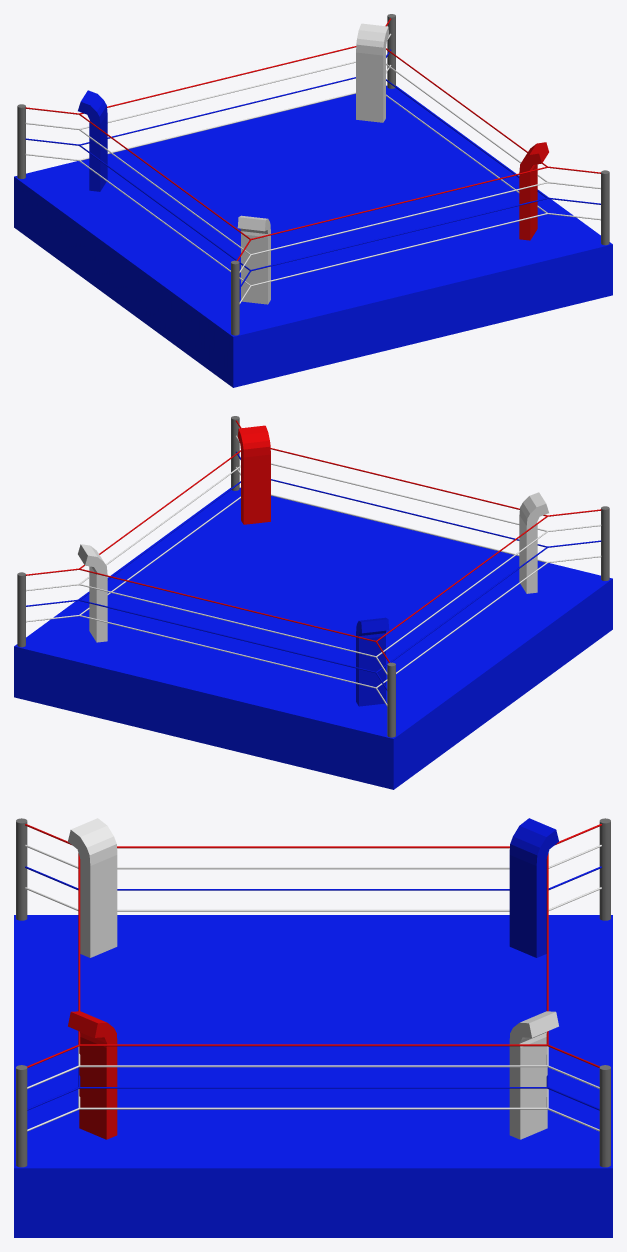
File: boxing ring.fbx
3 renders of one model, top to bottom at view 1: azimuth 30°, elevation 25°; view 2: azimuth 150°, elevation 25°; view 3: azimuth 270°, elevation 25°, orthographic. The views are drawn at different scales.
Visible parts, largest first — view 1: Ring, Turnbuckle Pad, Rope Restraint, Rope.002, Rope.003, Rope.001, Rope; view 2: Ring, Turnbuckle Pad, Rope Restraint, Rope.002, Rope.003, Rope.001, Rope; view 3: Ring, Turnbuckle Pad, Rope Restraint, Rope.003, Rope.002, Rope, Rope.001, TurnbuckleRope, TurnbuckleRope.001, TurnbuckleRope.002.
Part boxes in pixels (x1,y1,x2,y2): Ring: (14, 85, 612, 387); Turnbuckle Pad: (78, 23, 548, 304); Rope Restraint: (17, 14, 609, 335); Rope.002: (78, 61, 547, 255); Rope.003: (79, 46, 547, 239); Rope.001: (79, 77, 547, 271); Rope: (79, 92, 547, 286); Ring: (14, 487, 612, 789); Turnbuckle Pad: (78, 425, 548, 706); Rope Restraint: (17, 416, 609, 737); Rope.002: (79, 463, 548, 657); Rope.003: (79, 448, 547, 641); Rope.001: (79, 479, 547, 673); Rope: (79, 494, 547, 688); Ring: (14, 915, 612, 1237); Turnbuckle Pad: (68, 818, 558, 1139); Rope Restraint: (16, 818, 610, 1167); Rope.003: (78, 846, 548, 1046); Rope.002: (78, 867, 548, 1067); Rope: (78, 909, 548, 1109); Rope.001: (78, 889, 548, 1088); TurnbuckleRope: (25, 887, 601, 1131); TurnbuckleRope.001: (25, 866, 601, 1110); TurnbuckleRope.002: (25, 845, 601, 1088).
Bounding box in the file's own units: 780 × 274 × 780.
